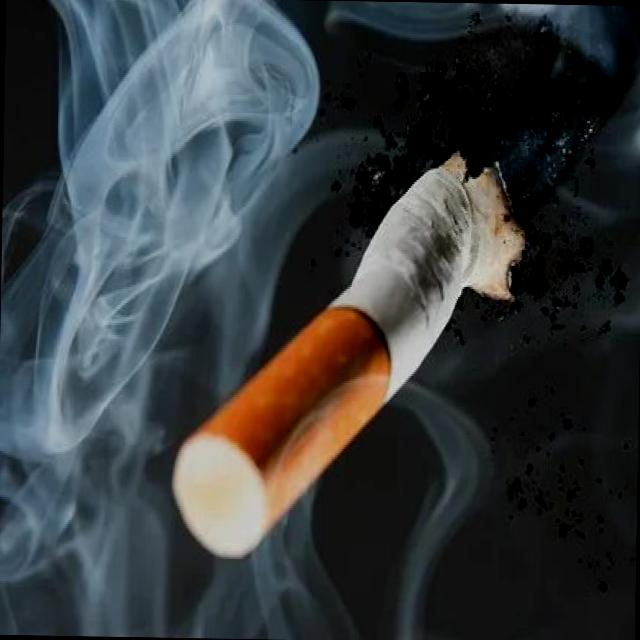smoke: (160, 119, 549, 600)
